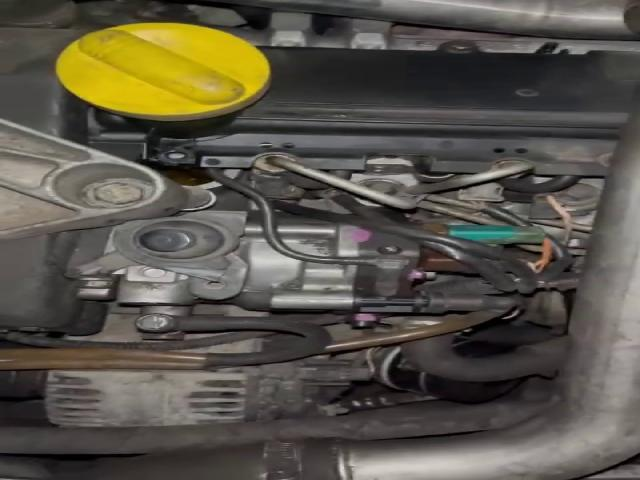alternator: (44, 370, 245, 427)
high_pressure_pump: (117, 224, 519, 327), (283, 219, 385, 255)
